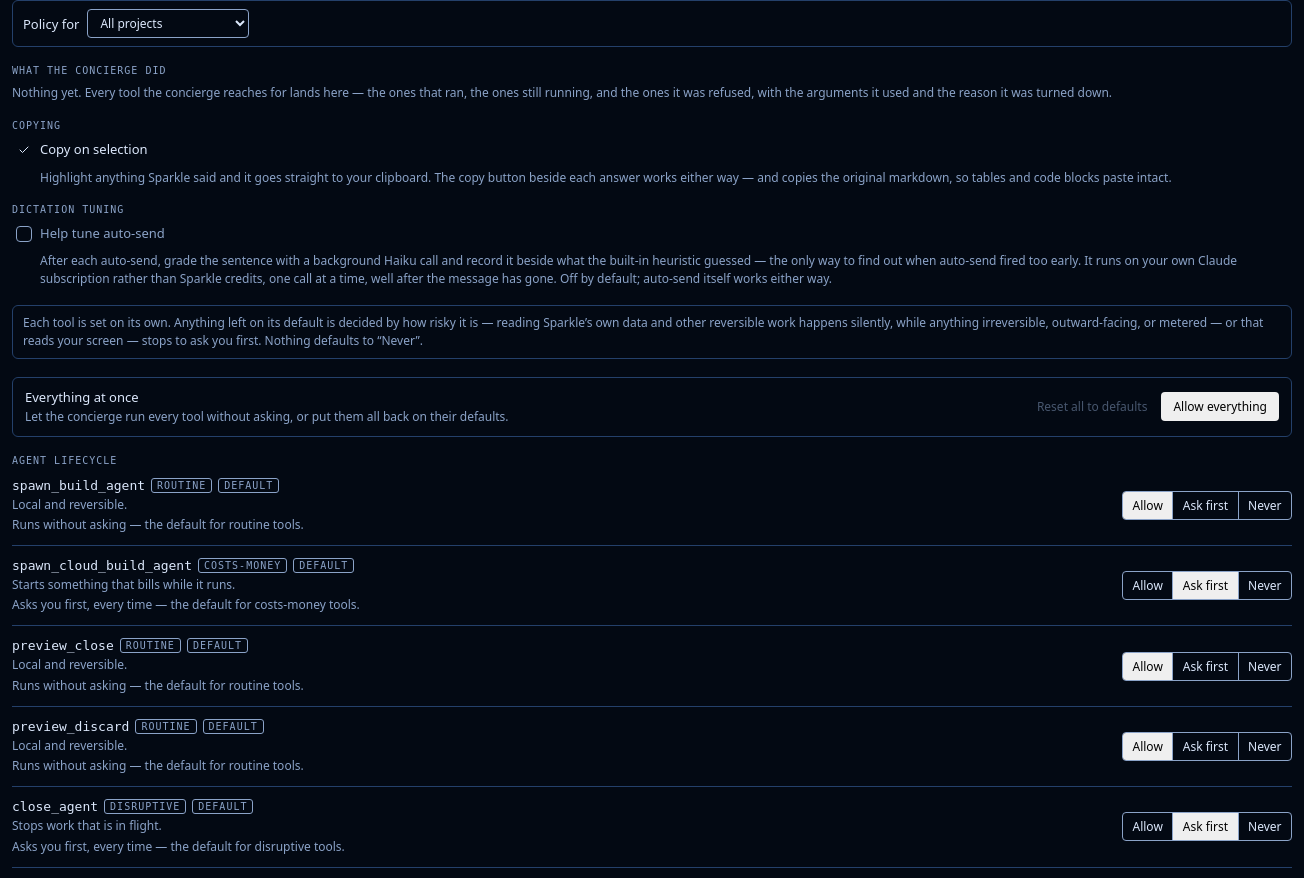
Test: the scope switcher › reaches a repo that is neither pinned nor configured, through Another repo…
This screenshot has width=1304, height=878.
Select "Another repo…" in the dropdown with test id "concierge-policy-scope" at (168, 24), box [87,9,249,38]
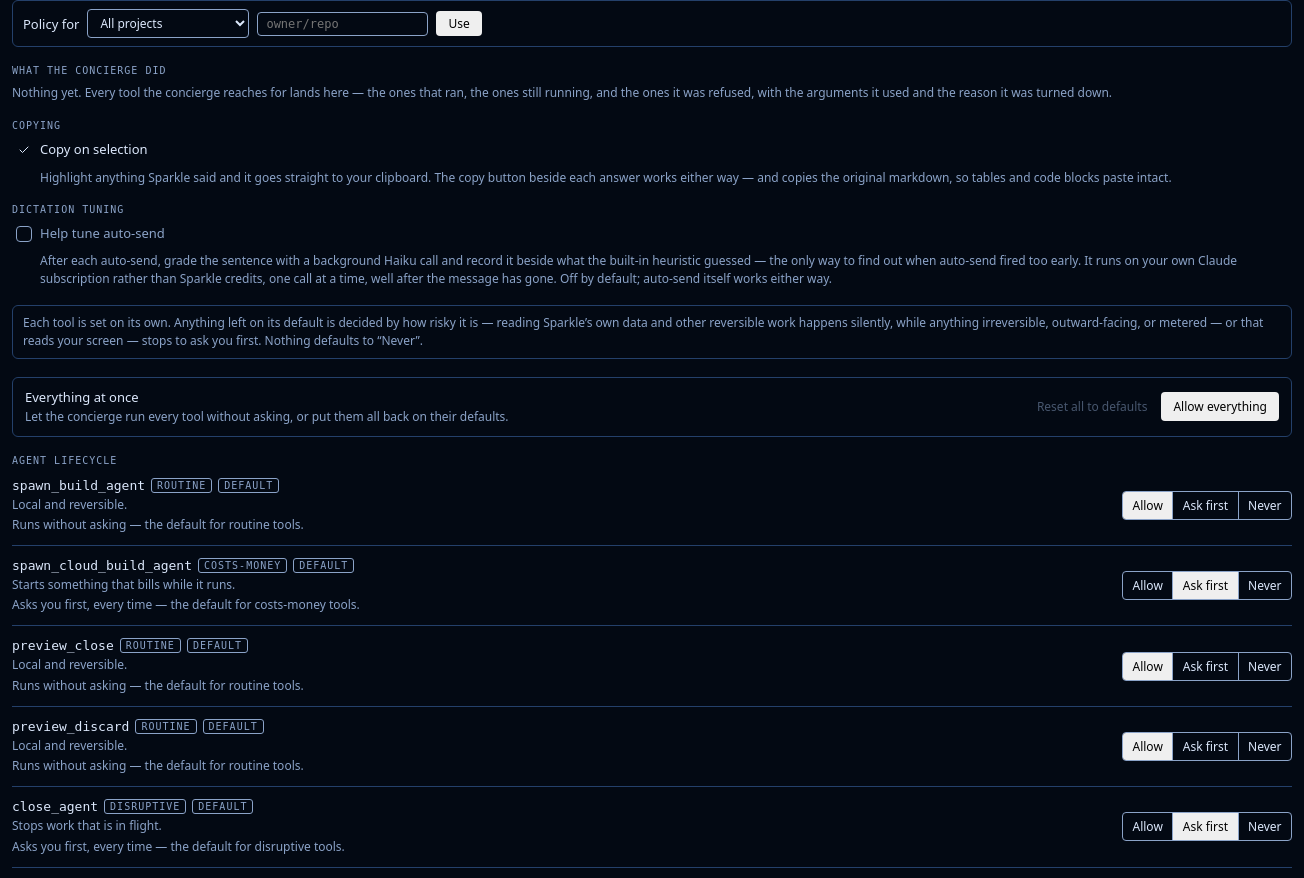
Type "  Acme/Widgets  " into the field with test id "concierge-policy-scope-input" at (343, 24), box [257,12,428,36]
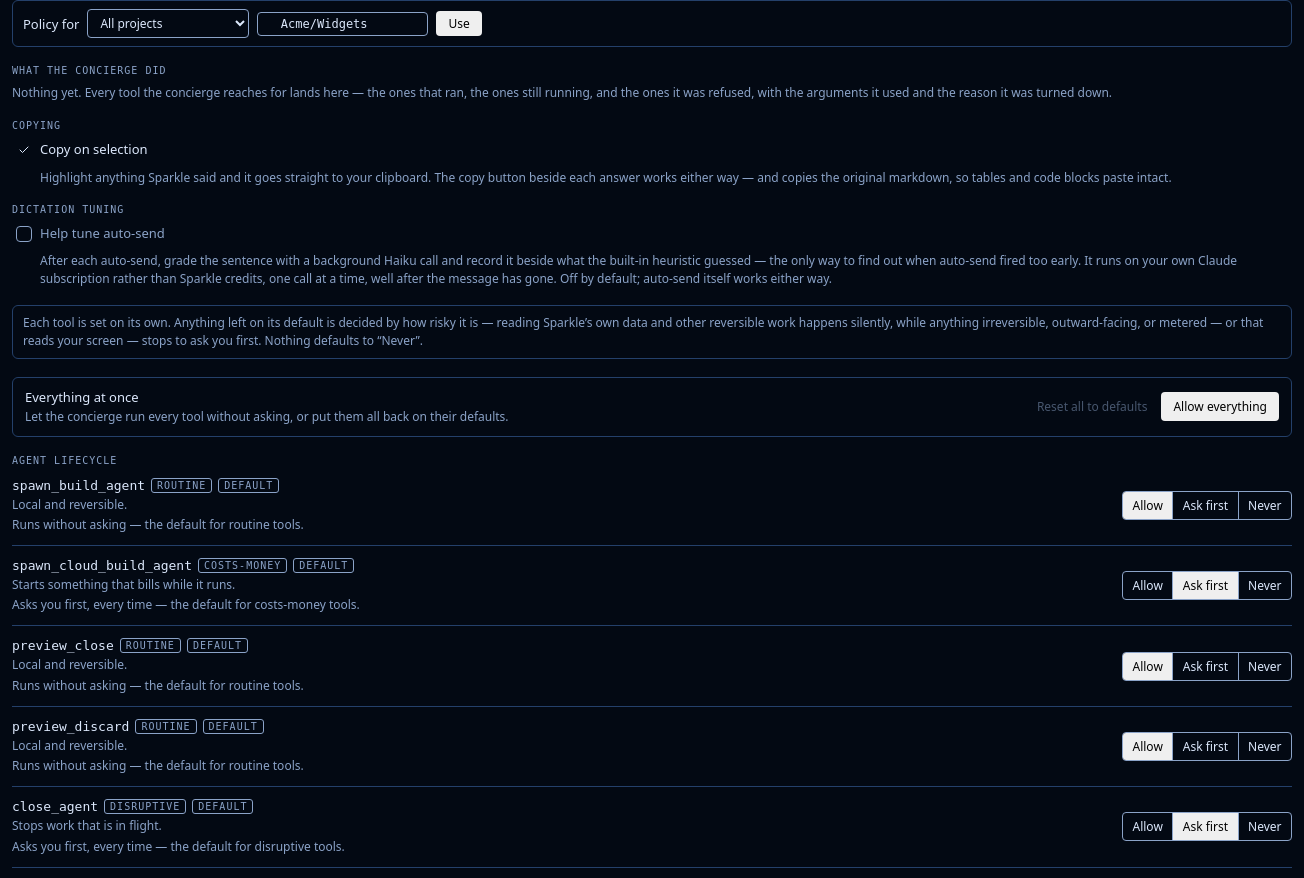
Click the button "Use" at (459, 24), box [436,11,482,36]
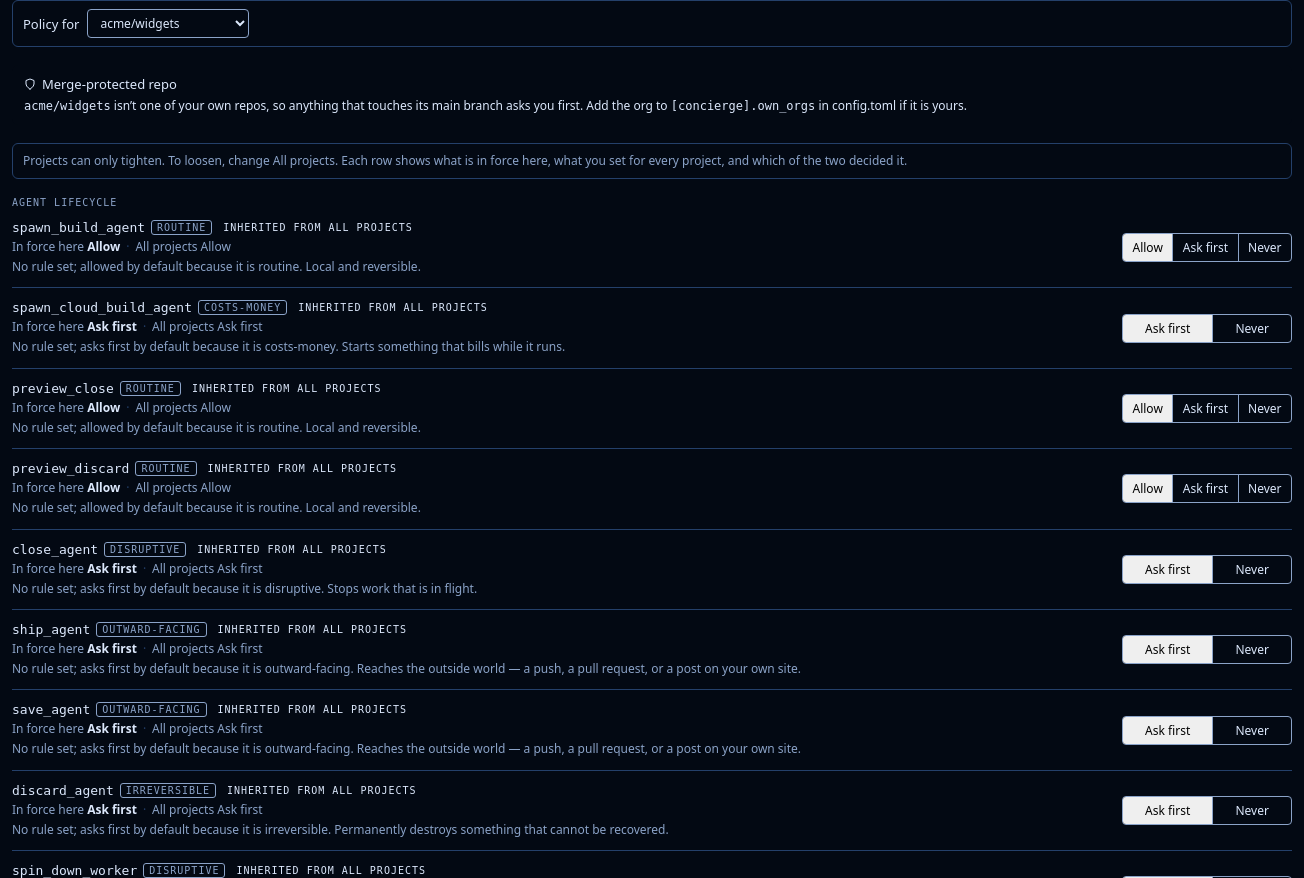
Expected: the element with test id "concierge-project-tool-row" that starts with "spawn_build_agent" is shown, [12,220,1292,288]
